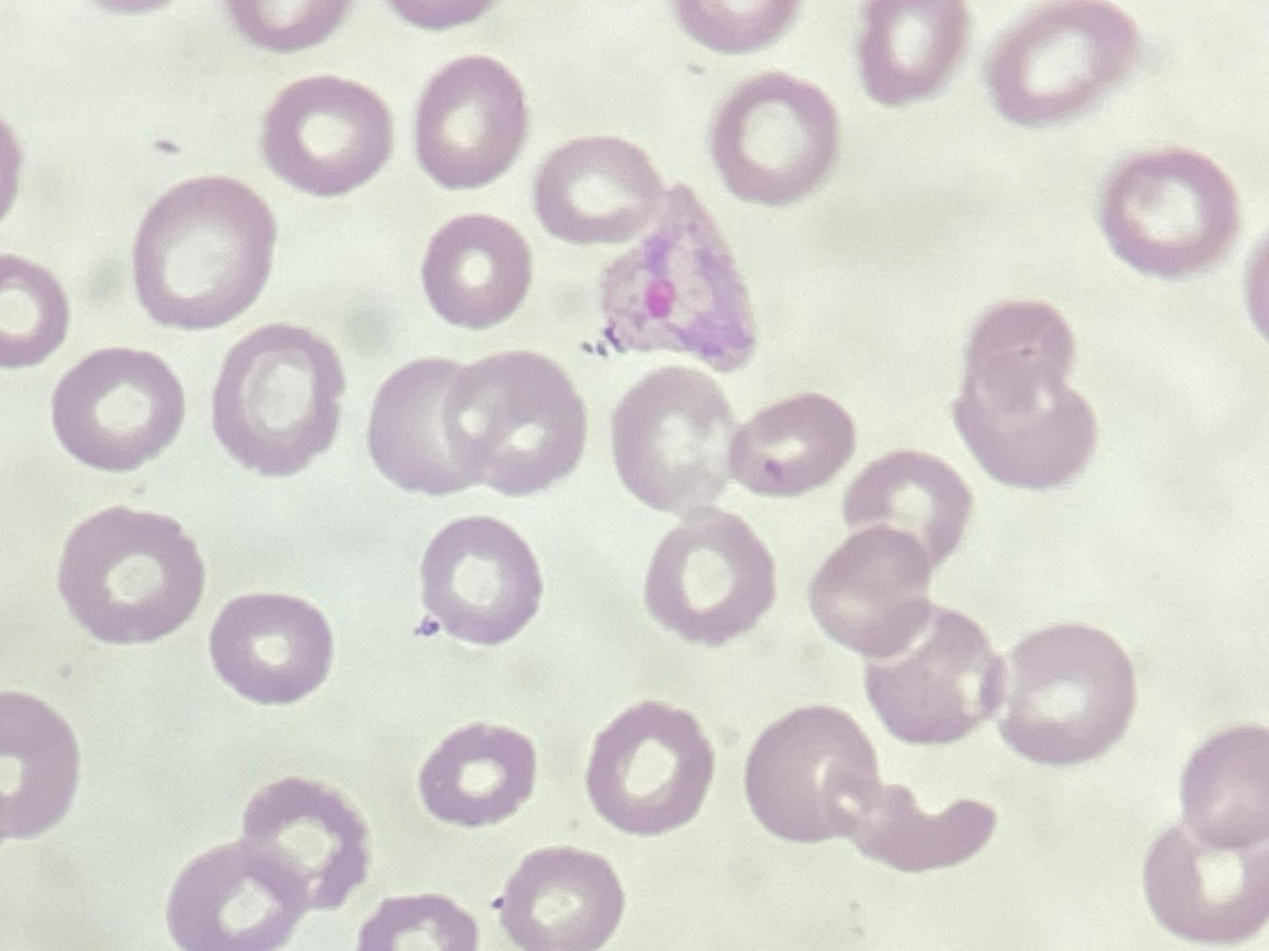Infected: (601, 182, 755, 373)
Uninfected: (864, 607, 1009, 746), (448, 349, 585, 496), (56, 508, 202, 645), (137, 182, 274, 327), (995, 627, 1135, 764), (610, 374, 745, 514), (641, 506, 775, 647), (990, 0, 1136, 127), (1099, 147, 1235, 279), (218, 324, 337, 473), (952, 375, 1100, 491), (243, 779, 370, 914), (844, 446, 971, 580), (264, 71, 395, 197), (752, 707, 874, 842), (367, 359, 486, 495), (590, 712, 718, 836), (56, 349, 186, 469), (717, 73, 837, 201), (165, 843, 306, 951), (425, 517, 541, 647), (811, 534, 930, 660), (416, 53, 528, 186), (722, 397, 856, 500), (210, 598, 333, 710), (963, 301, 1079, 419), (497, 846, 626, 951), (535, 135, 659, 239), (426, 215, 532, 327), (425, 726, 539, 829), (1181, 731, 1269, 853), (864, 5, 962, 106)
